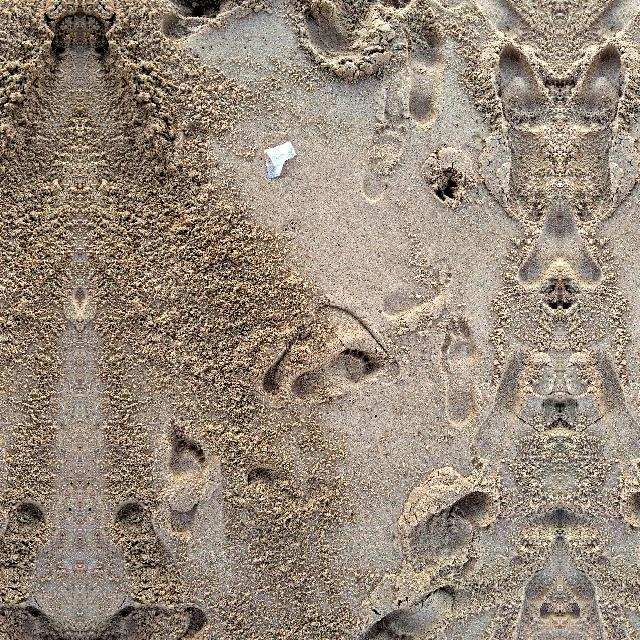Paper: (259, 138, 297, 184)
